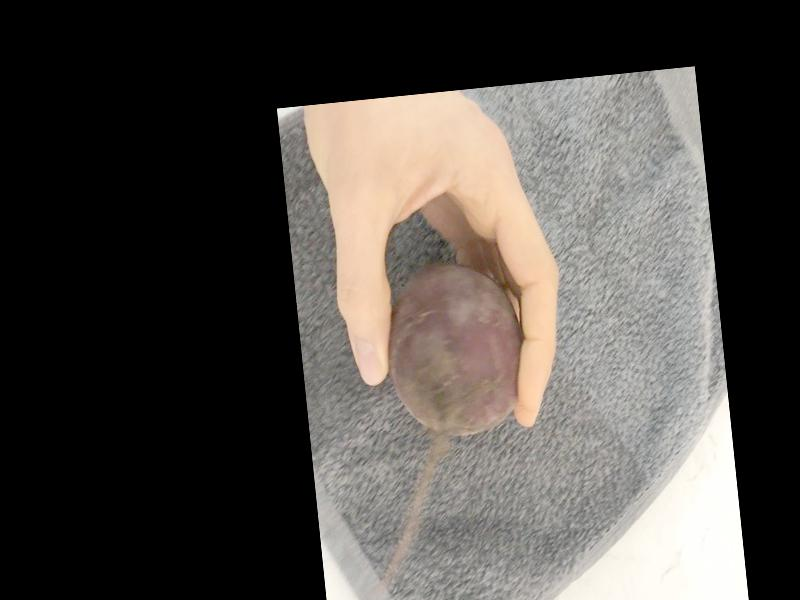Beet: (379, 256, 530, 440)
